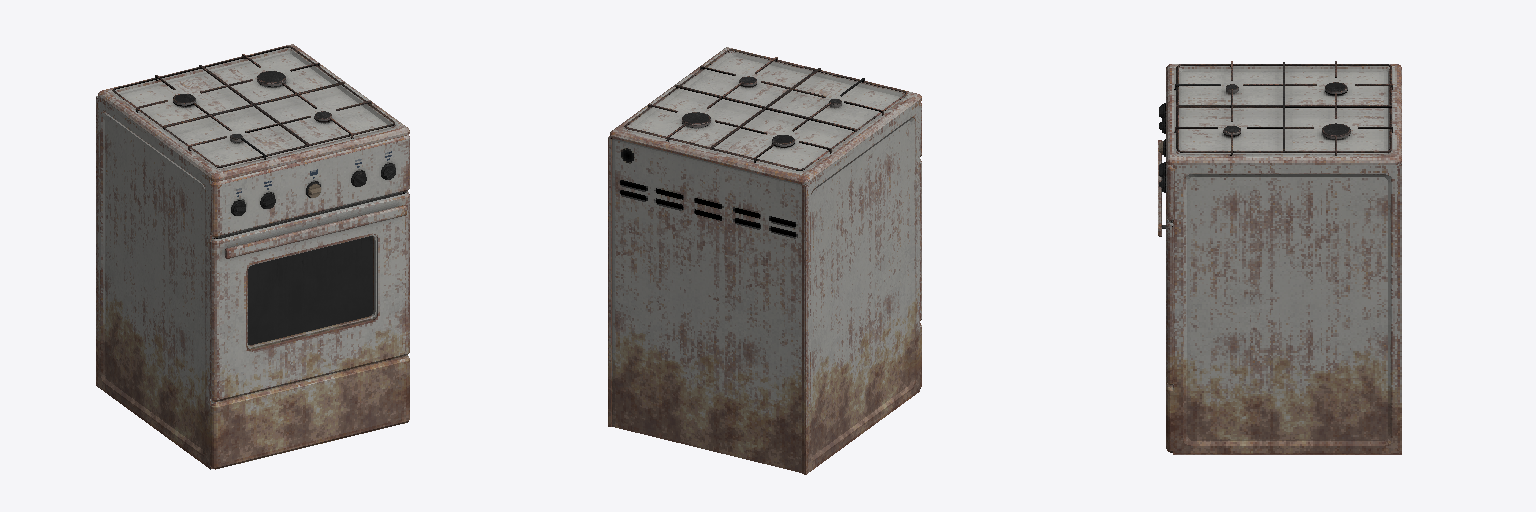
3 renders of one model, left to right at view 1: azimuth 30°, elevation 25°; view 2: azimuth 150°, elevation 25°; view 3: azimuth 270°, elevation 25°, orthographic.
Visible parts, largest first — view 1: GasStove_Stove_0_GasStove_Stove_0_Stove, Glass_Glass_0_Glass_Glass_0_Glass; view 2: GasStove_Stove_0_GasStove_Stove_0_Stove; view 3: GasStove_Stove_0_GasStove_Stove_0_Stove.
Part boxes in pixels (left/top/right/bottom): GasStove_Stove_0_GasStove_Stove_0_Stove: left=96, top=44, right=409, bottom=469; Glass_Glass_0_Glass_Glass_0_Glass: left=248, top=236, right=372, bottom=344; GasStove_Stove_0_GasStove_Stove_0_Stove: left=608, top=47, right=921, bottom=474; GasStove_Stove_0_GasStove_Stove_0_Stove: left=1158, top=61, right=1401, bottom=454.
Size of the model in its own units: 1.05 by 1.53 by 1.13.
2 materials, 2 textured.